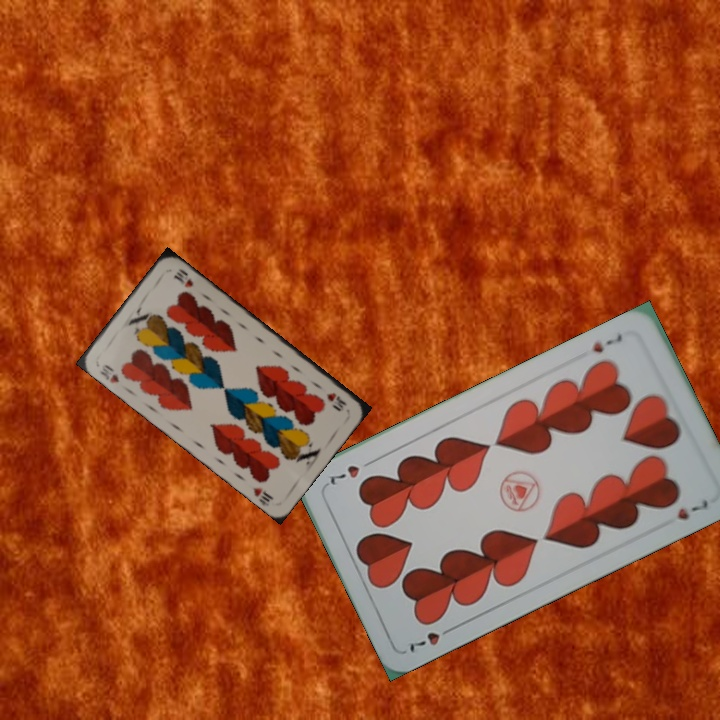H10: (96, 360, 122, 386), (322, 388, 348, 413)
H7: (403, 622, 458, 656), (589, 329, 625, 356)
